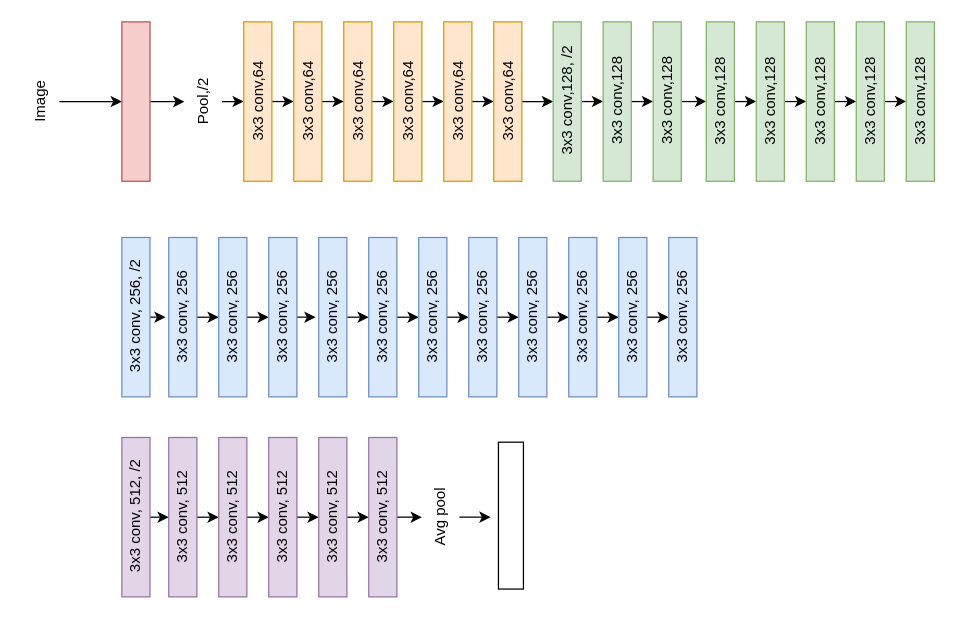
Image size: 956x619. Some labels were removed from this diagram. Here are the shapes that lost their labels. From the top down, the centre of each, then its label:
(x=135, y=101): 7x7 conv,64, /2
(x=510, y=515): FC 1000
